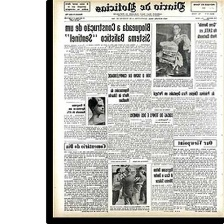news_paper: (49, 0, 224, 218)
